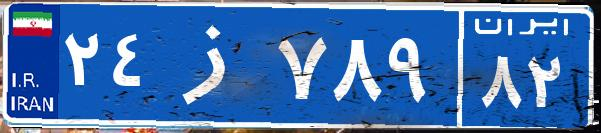2: (57, 26, 110, 107), (525, 38, 570, 115)
4: (110, 28, 158, 105)
7: (273, 28, 330, 110)
8: (330, 28, 385, 110), (475, 38, 525, 113)
9: (385, 28, 445, 110)
ز: (158, 15, 273, 115)
